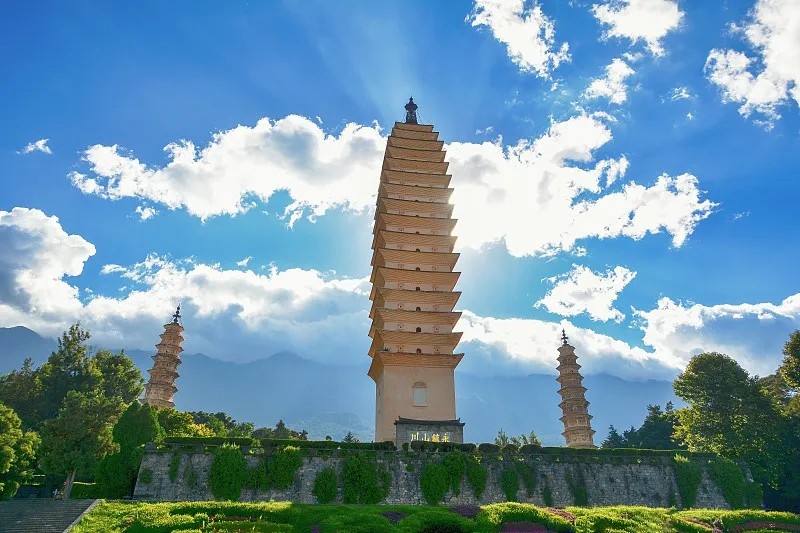ThreePagoda: (367, 95, 464, 441)
